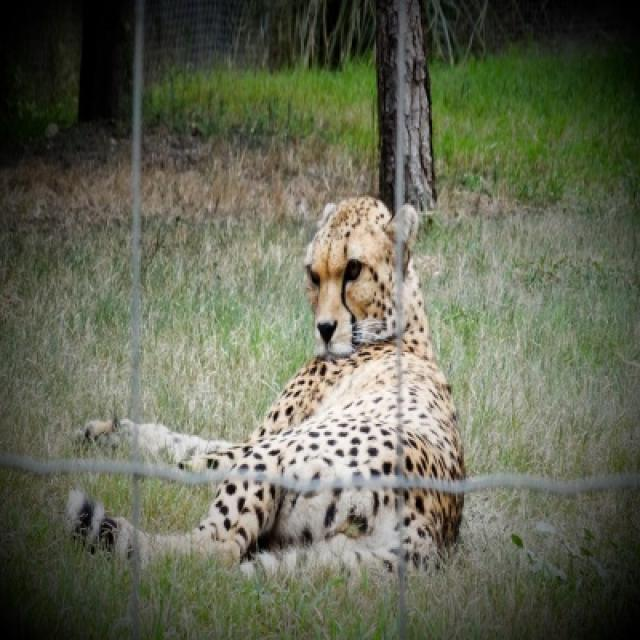Cheetah: (176, 198, 470, 571)
